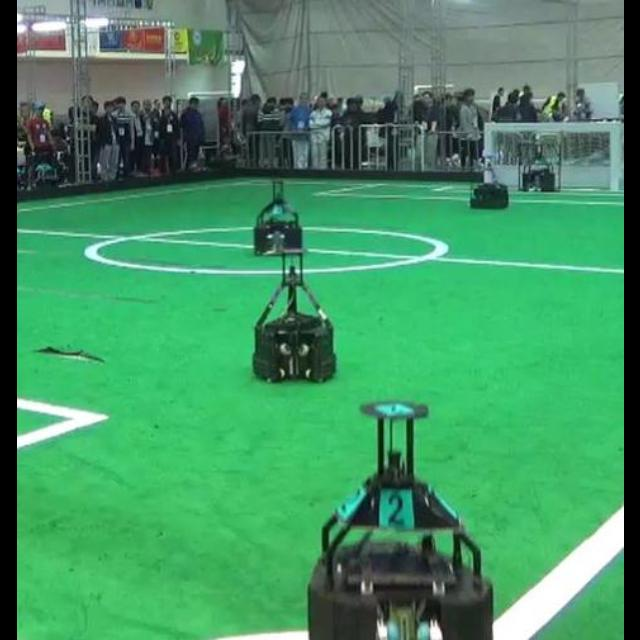goal: (609, 122, 622, 189)
robot: (307, 402, 491, 639), (252, 266, 333, 380), (253, 181, 300, 253), (519, 138, 561, 191), (470, 160, 509, 209)
